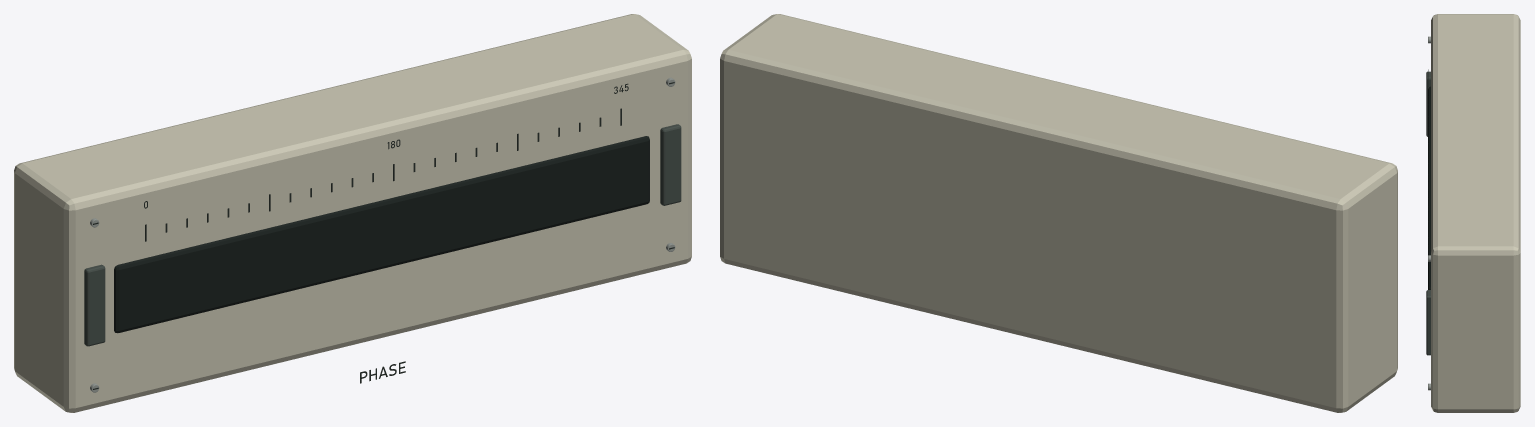
The model's file is PHASE_Housing.fbx.
3 renders of one model, left to right at view 1: azimuth 30°, elevation 25°; view 2: azimuth 150°, elevation 25°; view 3: azimuth 270°, elevation 25°, orthographic. The views are drawn at different scales.
Parts seen in each view (by area): view 1: PHASE_Housing_EXPORT; view 2: PHASE_Housing_EXPORT; view 3: PHASE_Housing_EXPORT.
Part boxes in pixels (x1=…): PHASE_Housing_EXPORT: x1=14, y1=14, x2=691, y2=412; PHASE_Housing_EXPORT: x1=720, y1=14, x2=1397, y2=412; PHASE_Housing_EXPORT: x1=1426, y1=14, x2=1520, y2=412.
Bounding box in the file's own units: 0.66 × 0.2513 × 0.1105.
